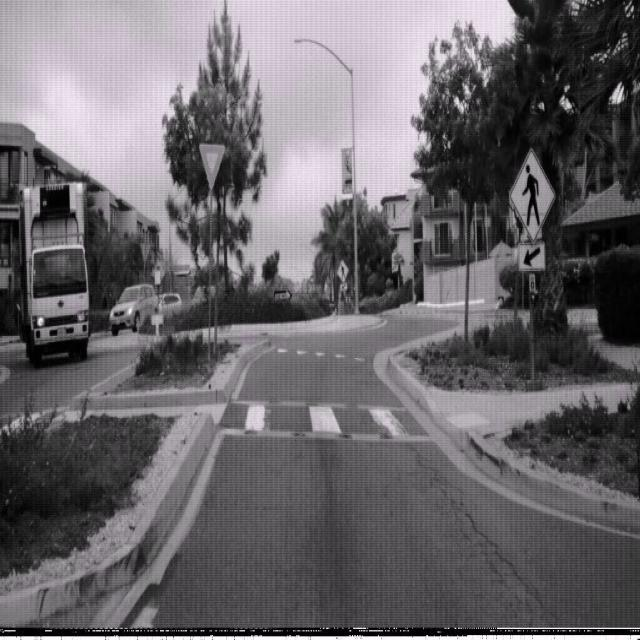pedestrianCrossing: (508, 146, 556, 244), (336, 259, 350, 283)
yield: (198, 142, 225, 193)
